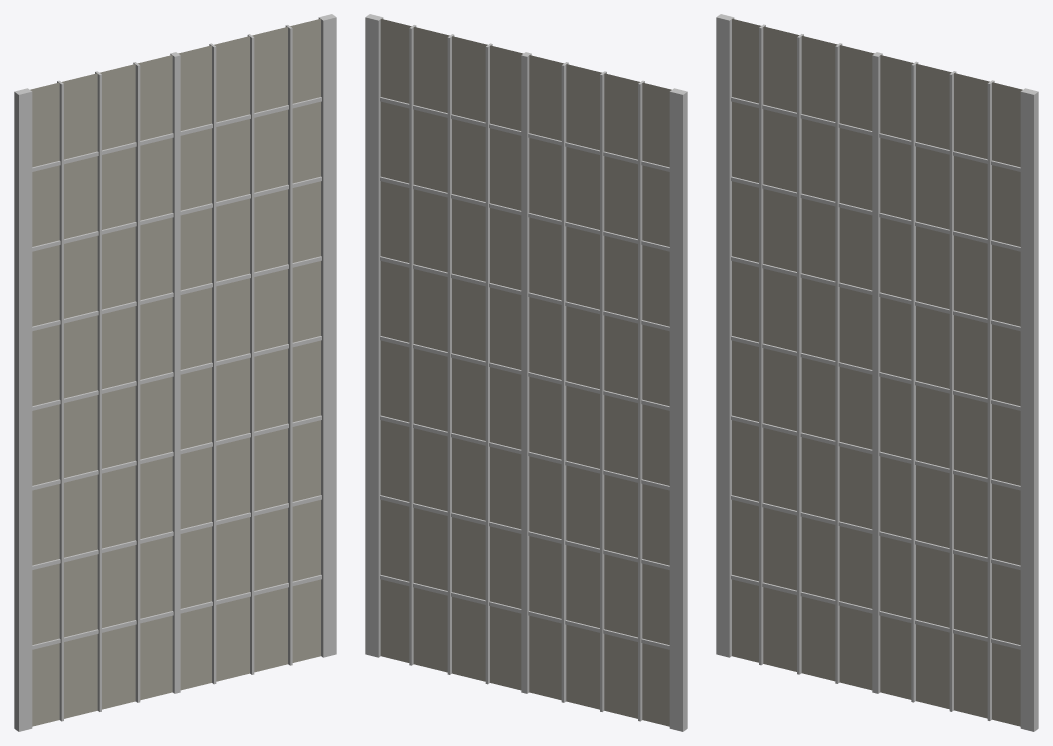
The model's file is washitsu_windows_01.fbx.
The picture shows the model from 3 angles, left to right: view 1: azimuth 30°, elevation 25°; view 2: azimuth 150°, elevation 25°; view 3: azimuth 330°, elevation 25°; orthographic projection.
Parts seen in each view (by area): view 1: washitsu_room_01_part_01, washitsu_room_01_part_02; view 2: washitsu_room_01_part_01, washitsu_room_01_part_02; view 3: washitsu_room_01_part_01, washitsu_room_01_part_02.
Boxes of the visible parts, box(x1,y1,x2,y2) form: washitsu_room_01_part_01: box(30, 19, 320, 726); washitsu_room_01_part_02: box(14, 14, 336, 731); washitsu_room_01_part_01: box(380, 19, 671, 726); washitsu_room_01_part_02: box(365, 14, 687, 731); washitsu_room_01_part_01: box(732, 19, 1022, 726); washitsu_room_01_part_02: box(716, 14, 1038, 731).
Bounding box in the file's own units: 11.96 × 22.9 × 0.2993.
2 materials, 2 textured.
